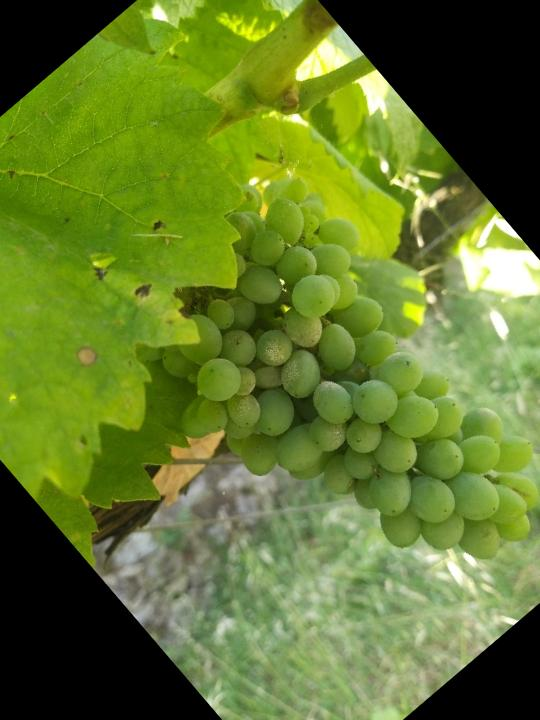grape: (86, 145, 540, 664)
